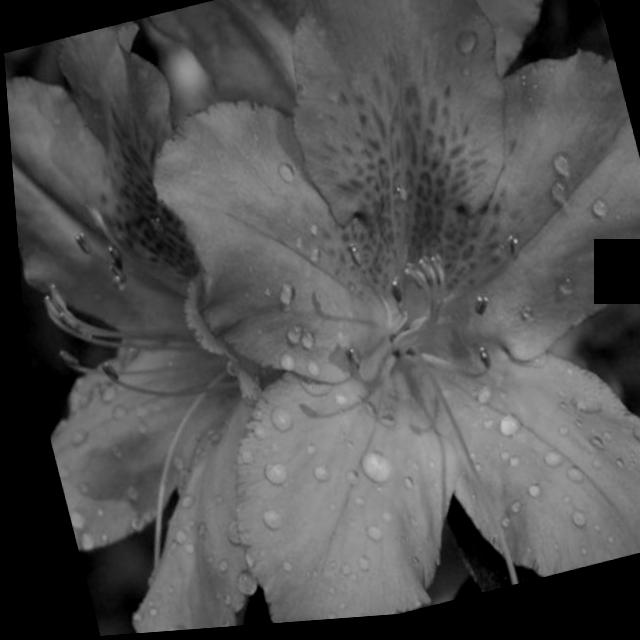azalea: (109, 0, 640, 634)
